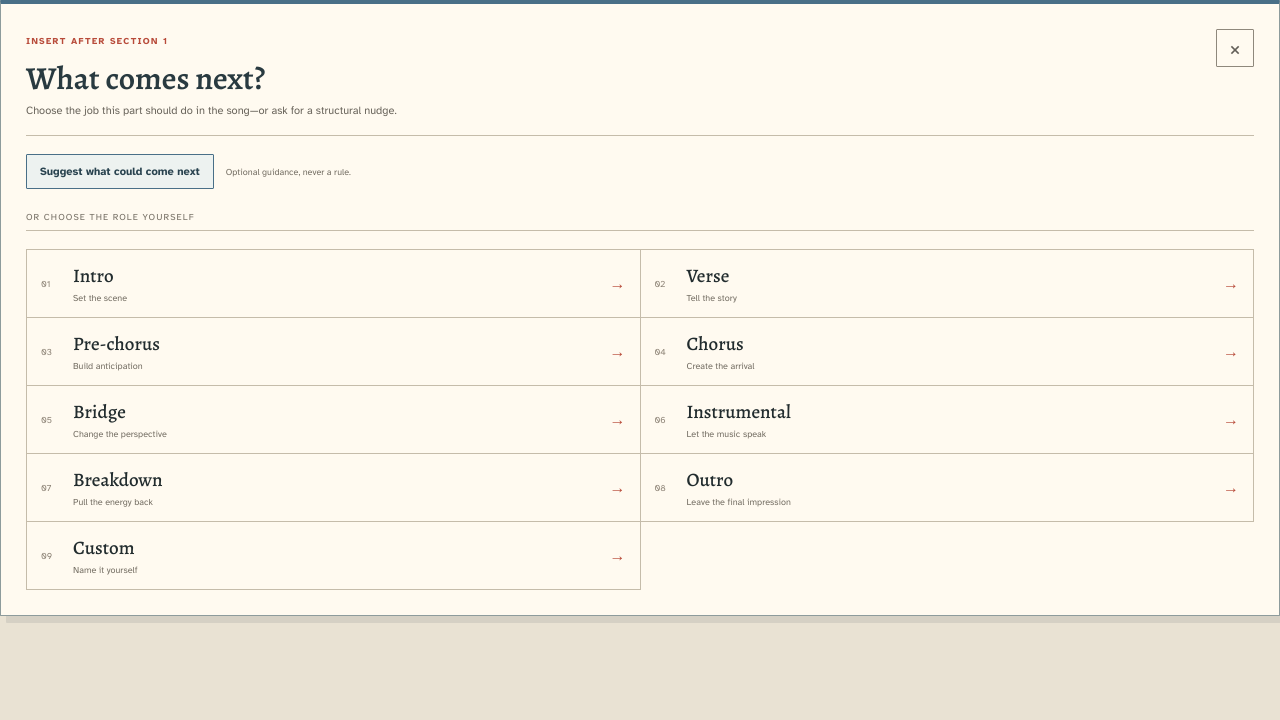
section creation choices › offers whole-song evidence for a new type
Click the button "04 Chorus Create the arrival →". click: point(715, 344)
box: 640,318 -> 1254,386
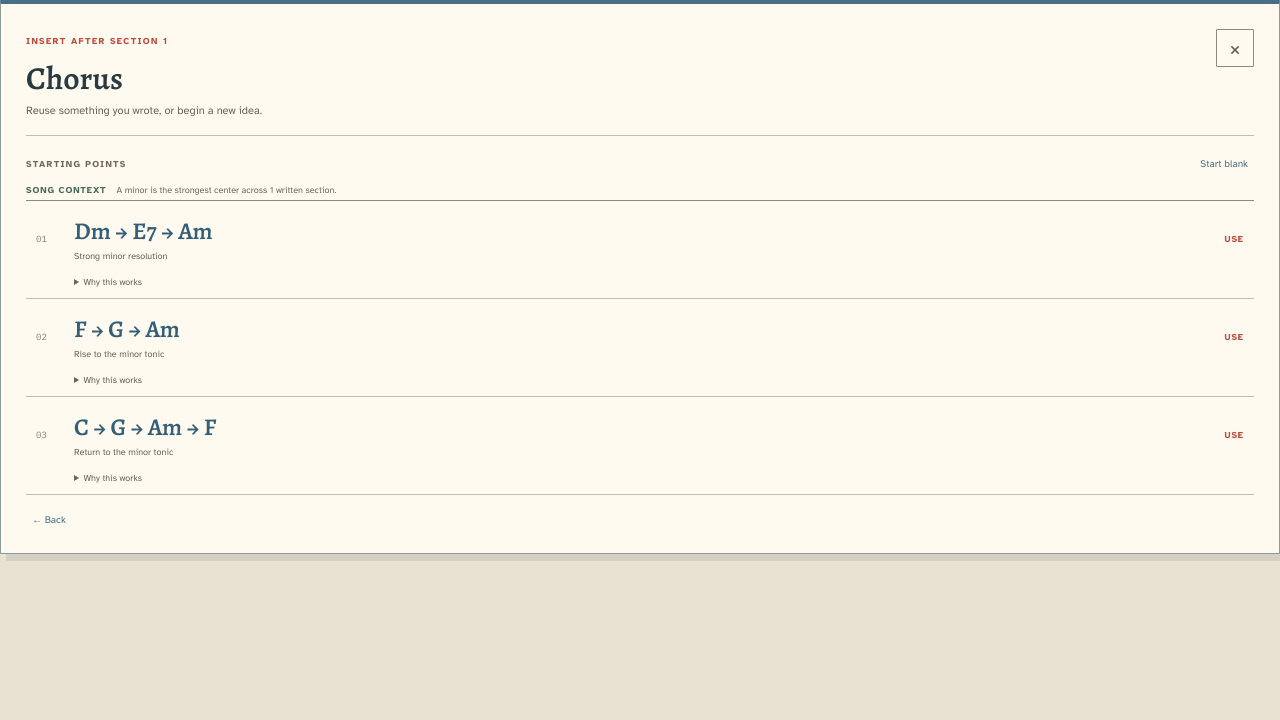
Expected: the button "Start blank" is shown, 1194,156 -> 1254,171
Expected: the number of headings "Why this works" is 3, 84,276 -> 142,288; 84,374 -> 142,386; 84,472 -> 142,484
